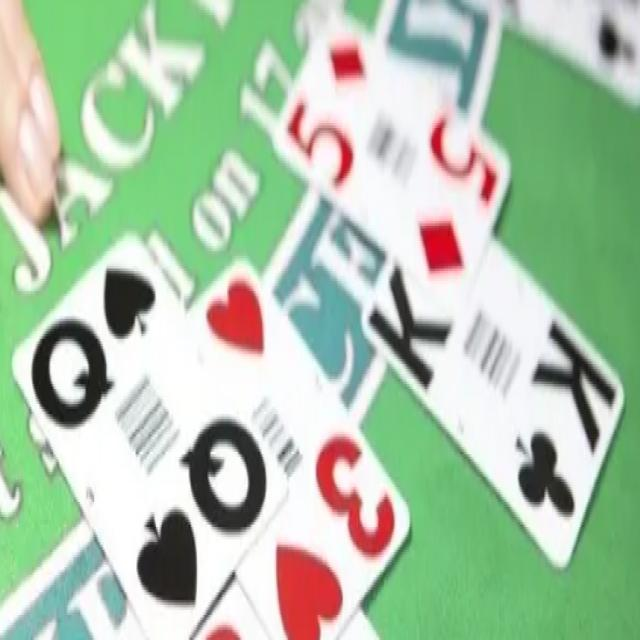Card-3: (187, 251, 410, 637)
Card-5: (274, 3, 512, 319)
Card-K: (360, 237, 624, 573)
Card-Q: (11, 228, 287, 637)
